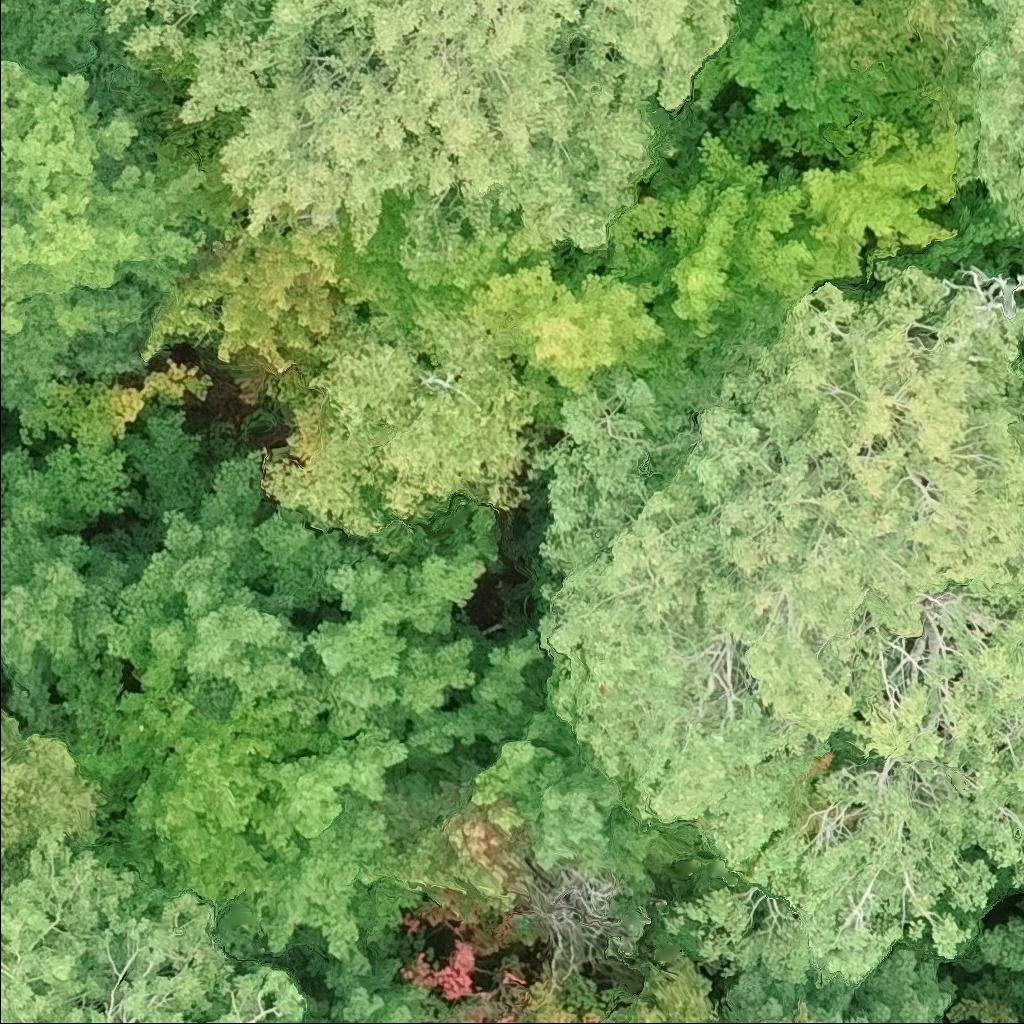crown: (531, 259, 1023, 980), (118, 407, 550, 853), (96, 0, 744, 278), (458, 106, 963, 430), (59, 651, 330, 954), (259, 287, 554, 556), (0, 59, 214, 408), (0, 826, 308, 1023), (143, 193, 417, 405), (260, 750, 495, 959), (472, 707, 704, 908), (0, 447, 159, 722), (686, 0, 931, 165), (948, 0, 1023, 241), (0, 706, 104, 873), (301, 926, 454, 1023), (585, 953, 742, 1023), (977, 914, 1023, 1008), (749, 998, 820, 1023), (964, 998, 1021, 1023), (0, 0, 23, 26), (0, 677, 4, 707)
